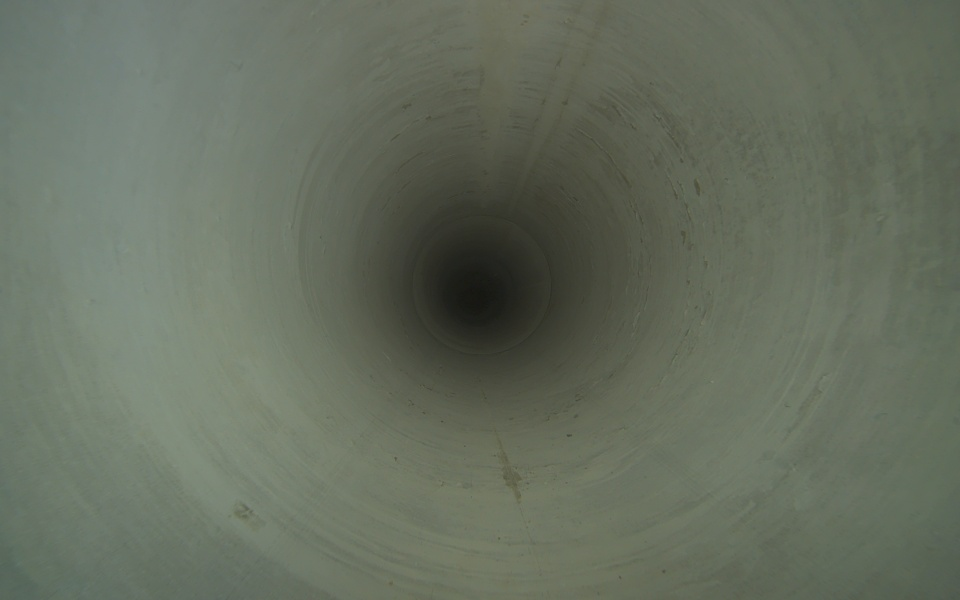circle1: (409, 211, 554, 360)
circle2: (458, 284, 490, 316)
